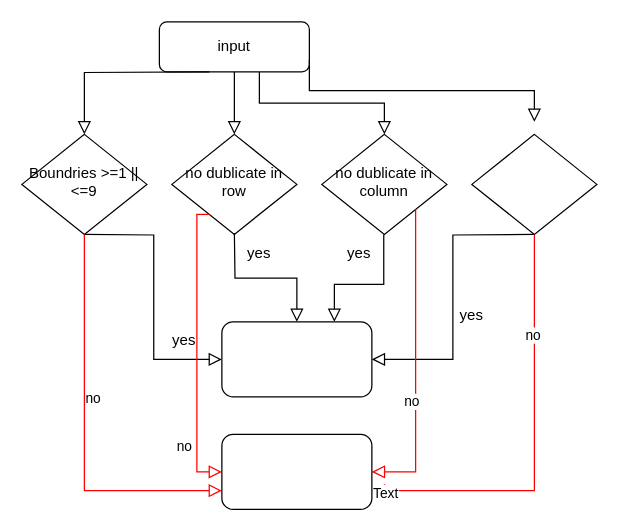
This 619x531 diagram has some shape labels left out. The box of each missing label's shape, as (x1, y1, x2, y2) in pixels:
3*3 box no dublication: (471, 133, 597, 234)
True: (221, 321, 372, 397)
